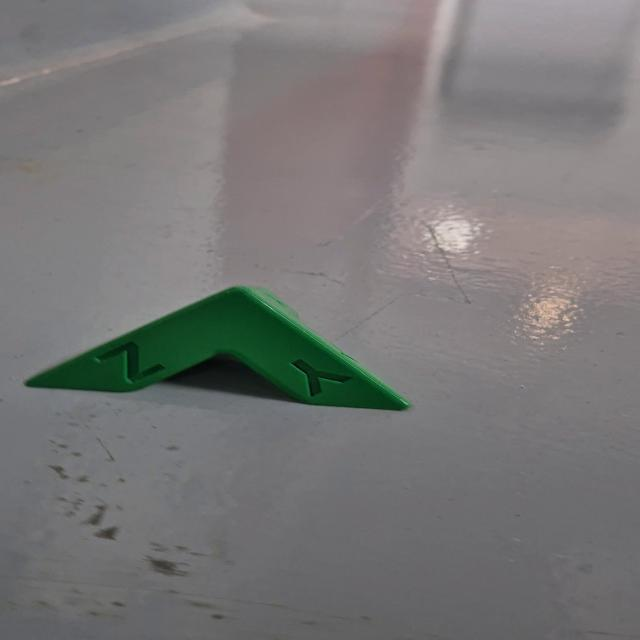objects: (18, 278, 419, 418)
